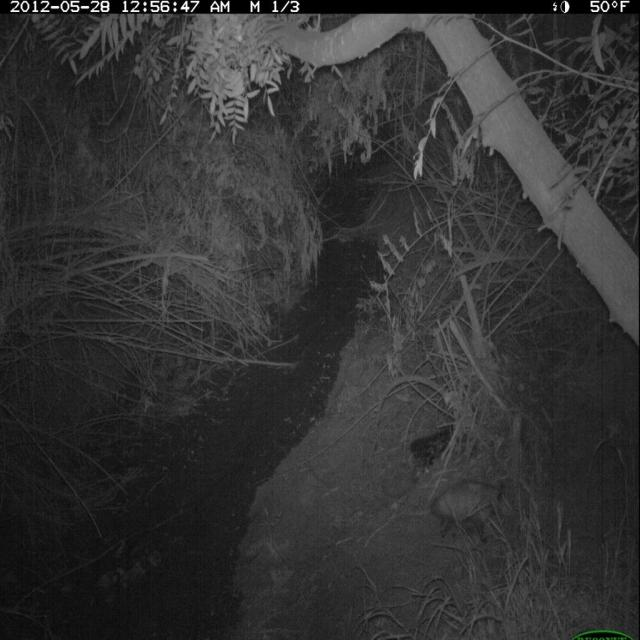opossum: (427, 479, 520, 549)
